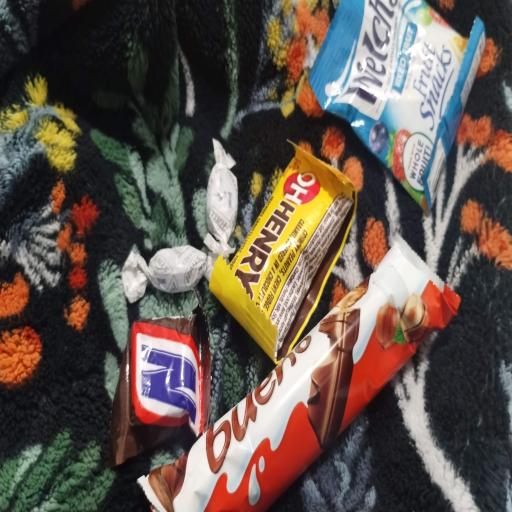chocolate: (138, 240, 459, 511), (310, 0, 485, 212), (210, 147, 356, 361), (110, 306, 210, 466), (122, 246, 211, 302), (203, 139, 238, 279)
